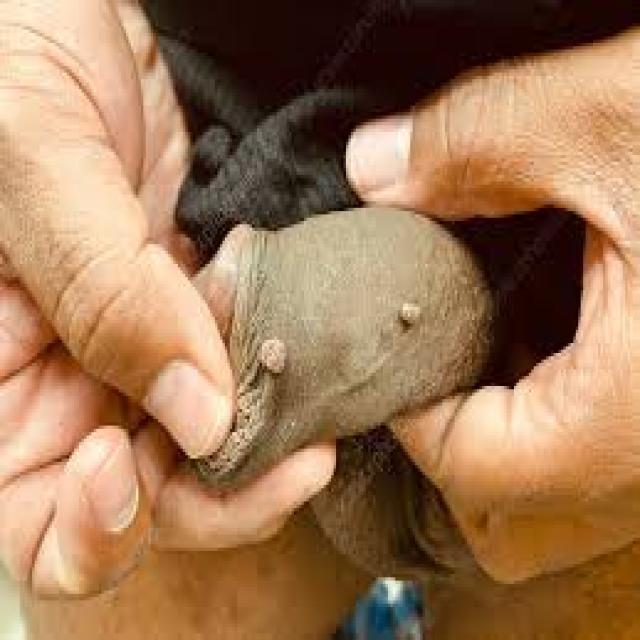Rosacea: (252, 333, 294, 381), (397, 295, 430, 333)
